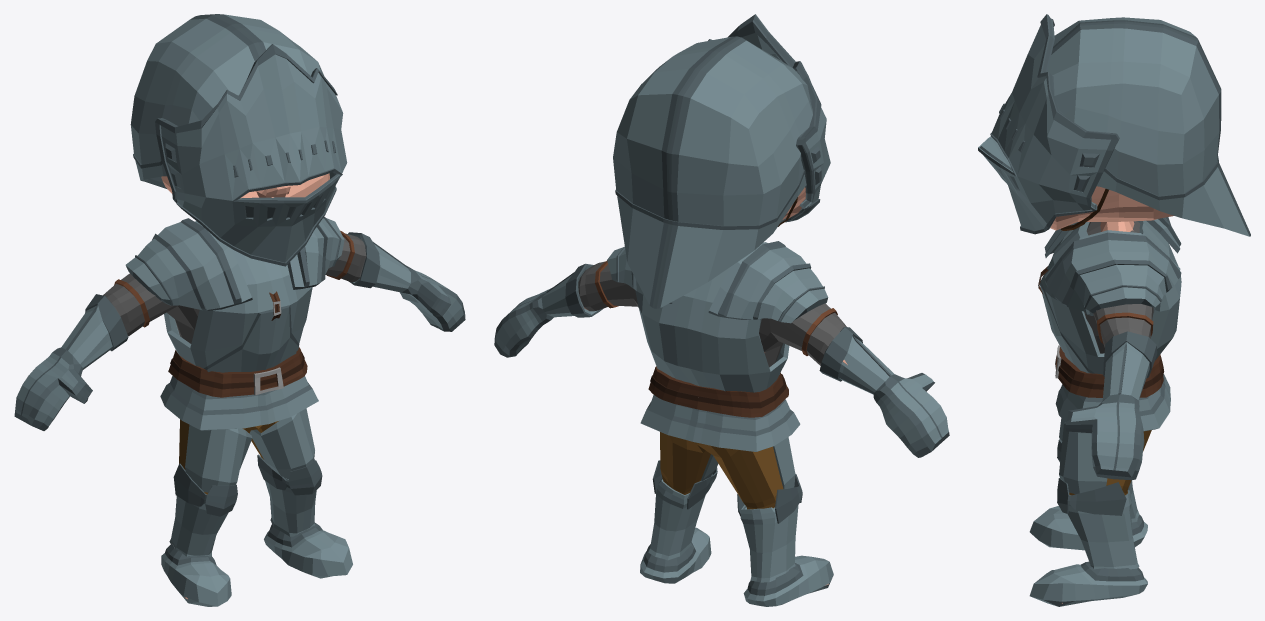
Rendered from WarriorSet_T1_MainChar.fbx.
3 renders of one model, left to right at view 1: azimuth 30°, elevation 25°; view 2: azimuth 150°, elevation 25°; view 3: azimuth 270°, elevation 25°, orthographic.
Visible parts, largest first — view 1: Cube.007; view 2: Cube.007; view 3: Cube.007.
Boxes of the visible parts, left/top/right/bottom form: Cube.007: left=14, top=14, right=465, bottom=606; Cube.007: left=494, top=14, right=949, bottom=606; Cube.007: left=978, top=14, right=1250, bottom=606.
Bounding box in the file's own units: 342 × 409 × 182.
